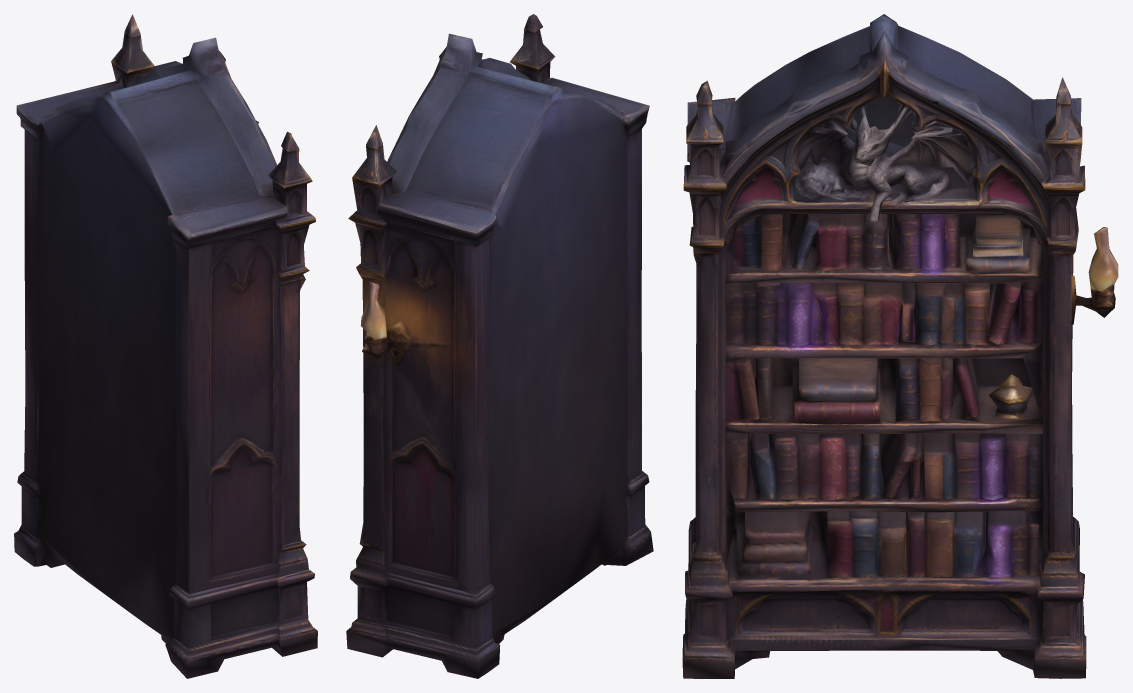
The model's file is castle_bookshelf_source.glb.
3 views of the same model, side by side, from view 1: azimuth 30°, elevation 25°; view 2: azimuth 150°, elevation 25°; view 3: azimuth 270°, elevation 25° (orthographic). The views are drawn at different scales.
Parts seen in each view (by area): view 1: tripo_node_8104976a-6680-40fe-b214-63d3207c42c4; view 2: tripo_node_8104976a-6680-40fe-b214-63d3207c42c4; view 3: tripo_node_8104976a-6680-40fe-b214-63d3207c42c4.
Boxes of the visible parts, box(x1,y1,x2,y2) form: tripo_node_8104976a-6680-40fe-b214-63d3207c42c4: box(14, 14, 317, 678); tripo_node_8104976a-6680-40fe-b214-63d3207c42c4: box(346, 14, 653, 678); tripo_node_8104976a-6680-40fe-b214-63d3207c42c4: box(682, 14, 1118, 678).
Size of the model in its own units: 0.2751 by 0.9791 by 0.6151.
1 material, 1 textured.
